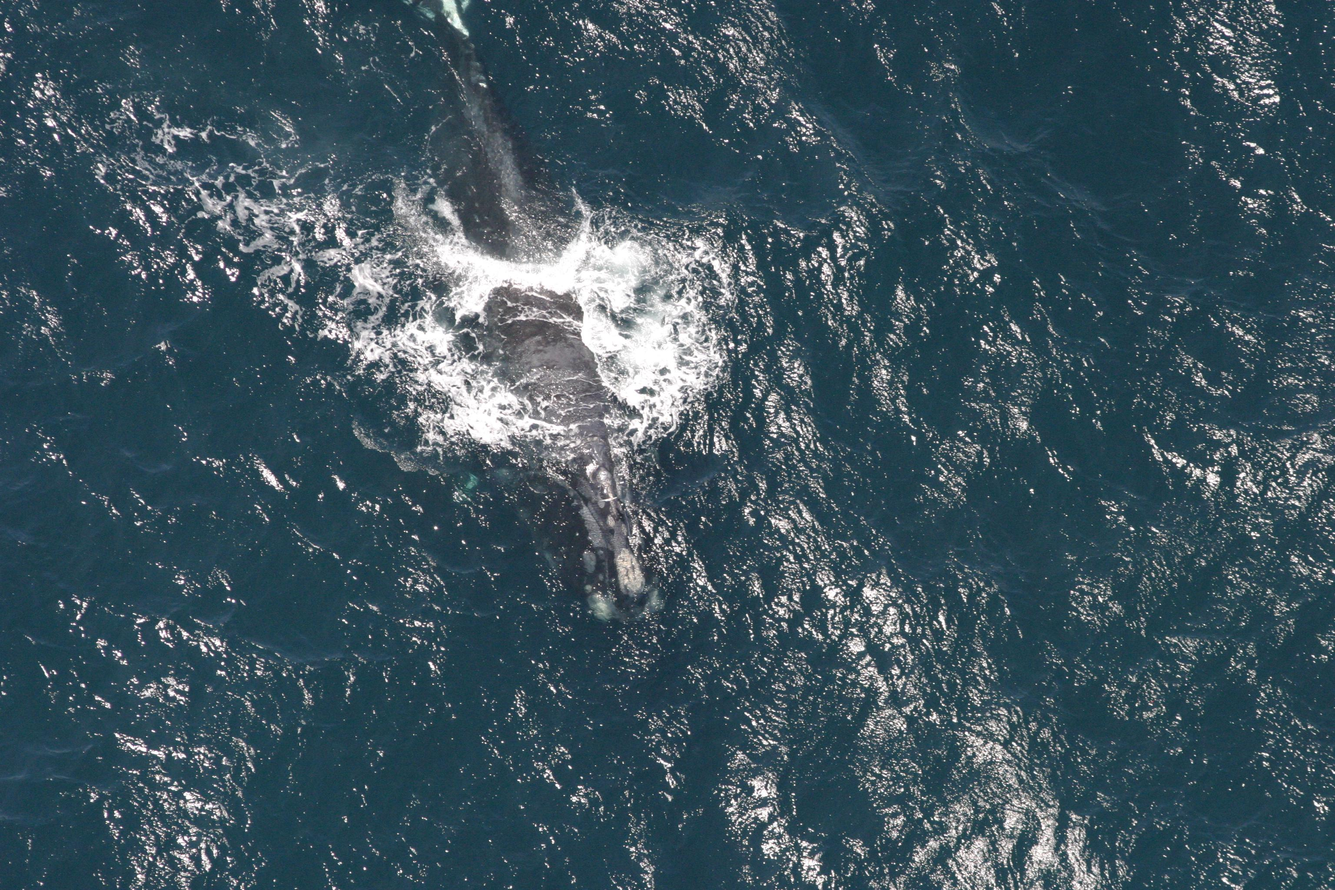whale: (386, 0, 729, 631)
